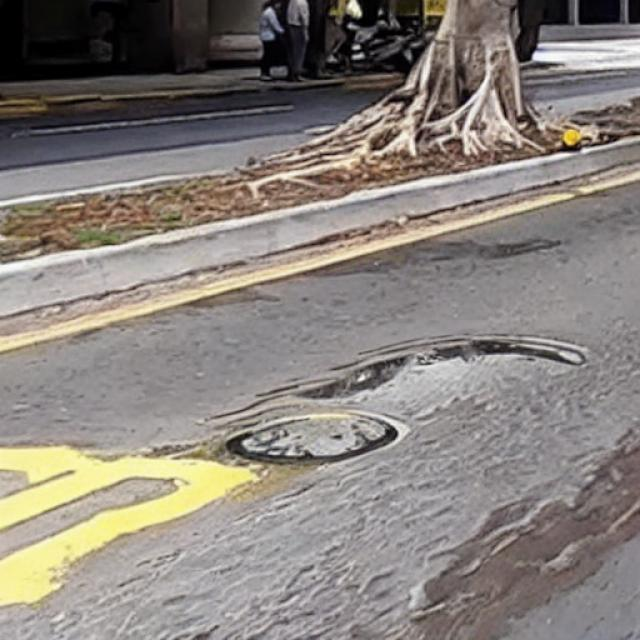puddle: (229, 338, 586, 453)
